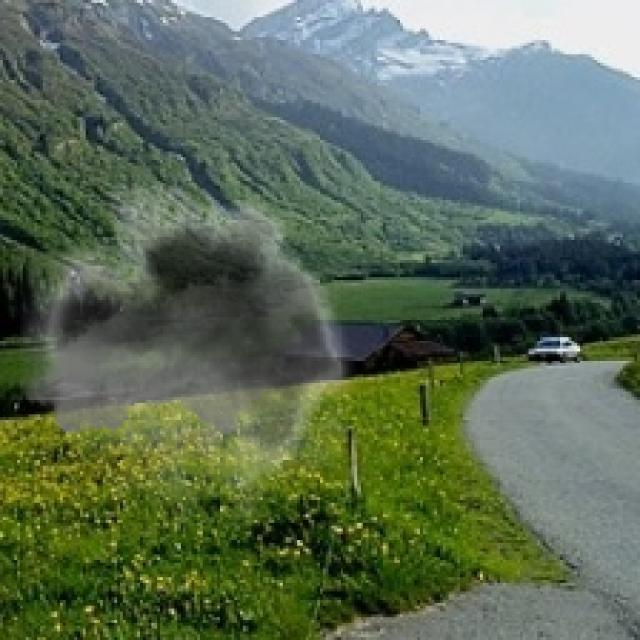Smoke: (20, 163, 369, 532)
